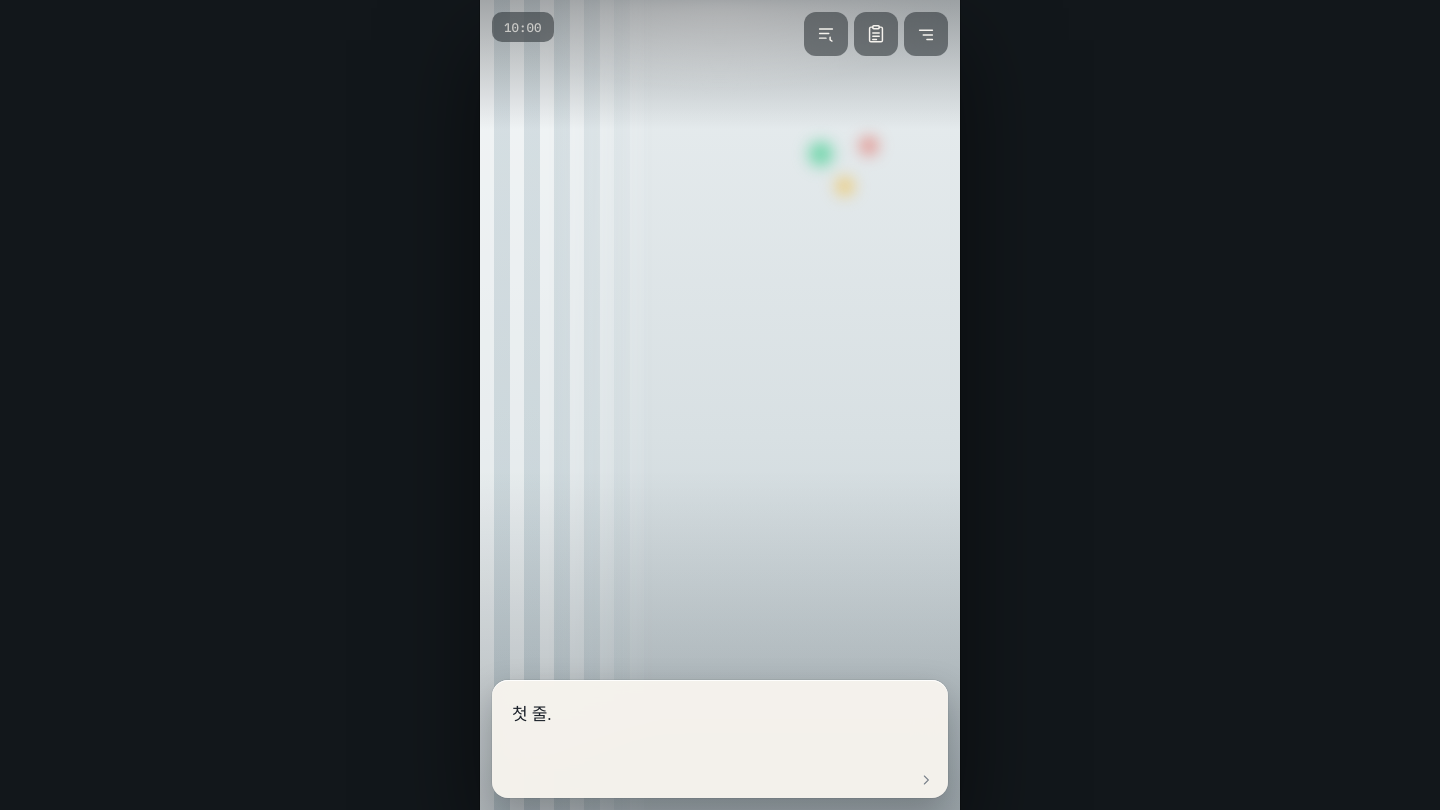
Test: Stage › reveals one beat per tap, then taps through a single forward step
Click the button named "다음" at [720, 405], box [480,0,960,809]
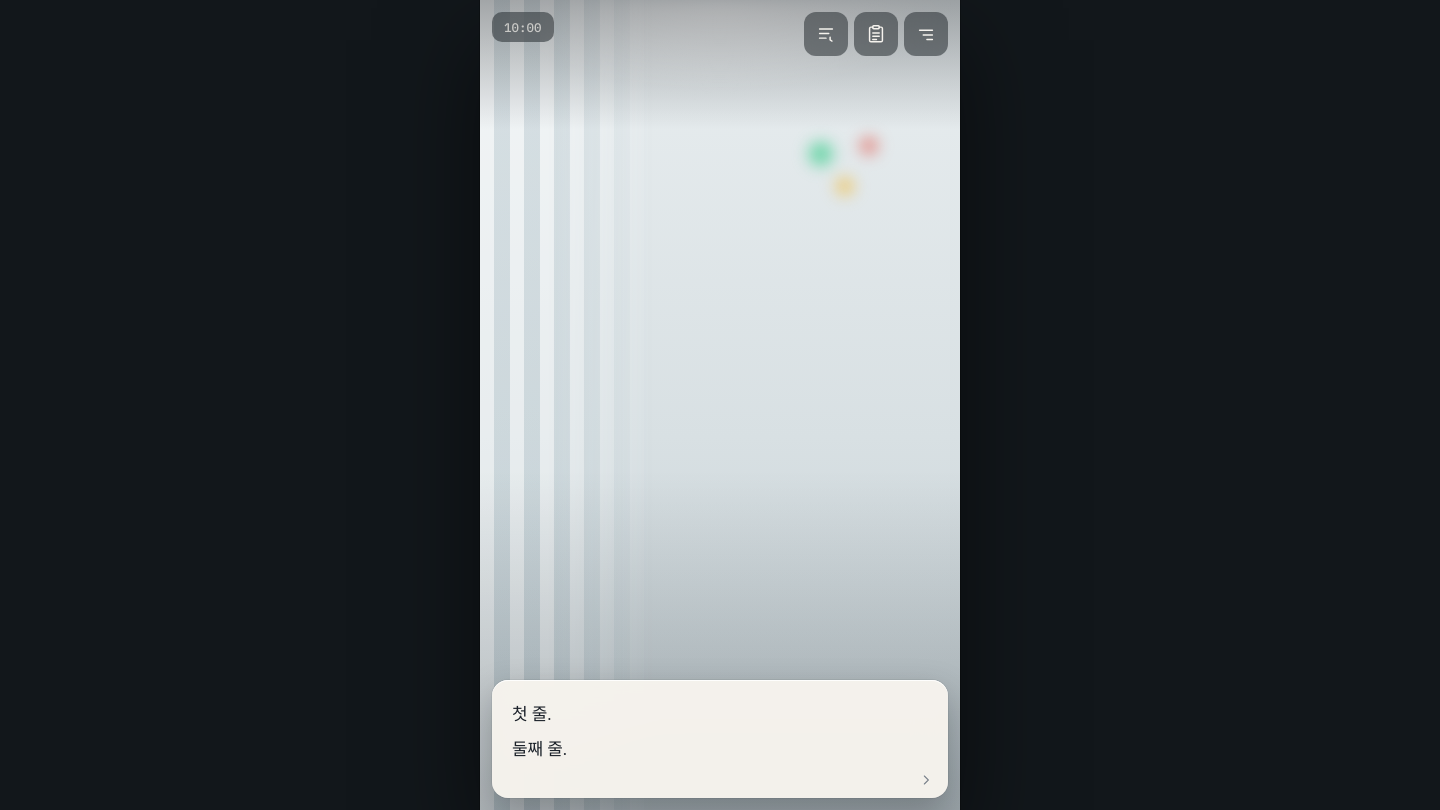
Click the button named "다음" at [720, 405], box [480,0,960,809]
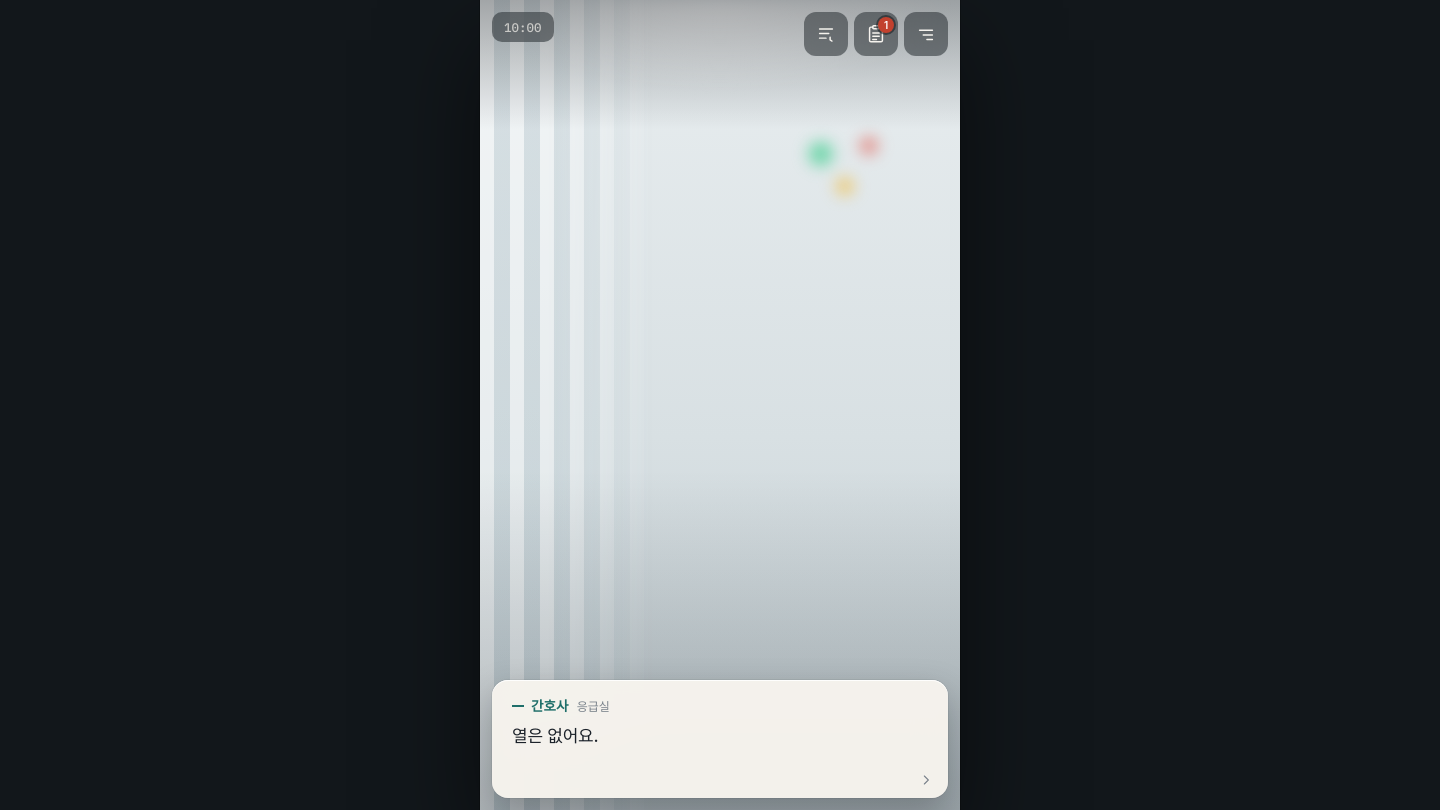
expect the text with class "line" reads "열은 없어요.": met, box [512,726,598,746]
expect the text with class "speaker-role" reads "응급실": met, box [577,699,610,714]
